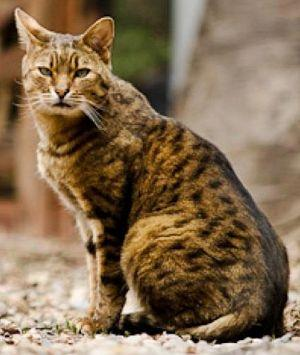bengal: (10, 5, 128, 125)
